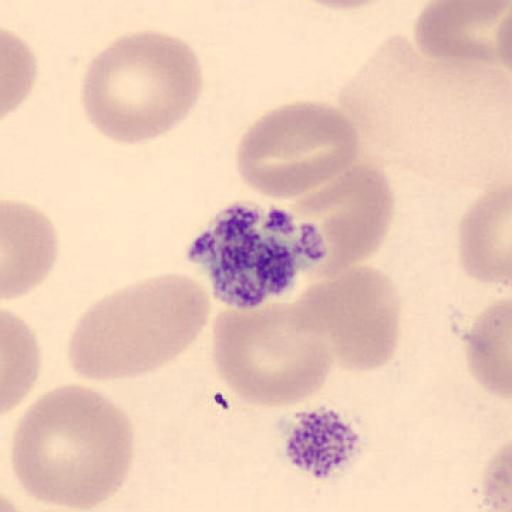Platelet: (282, 404, 371, 482)
RBC: (334, 32, 512, 228), (8, 382, 136, 512), (66, 273, 213, 381), (210, 286, 335, 410), (79, 28, 205, 148), (270, 164, 396, 276), (234, 100, 362, 202), (288, 265, 402, 373), (66, 280, 169, 383), (412, 0, 511, 66), (2, 198, 59, 300), (455, 185, 512, 285), (465, 295, 512, 400), (2, 308, 42, 416), (2, 26, 39, 122), (476, 438, 511, 512), (295, 0, 391, 11)
